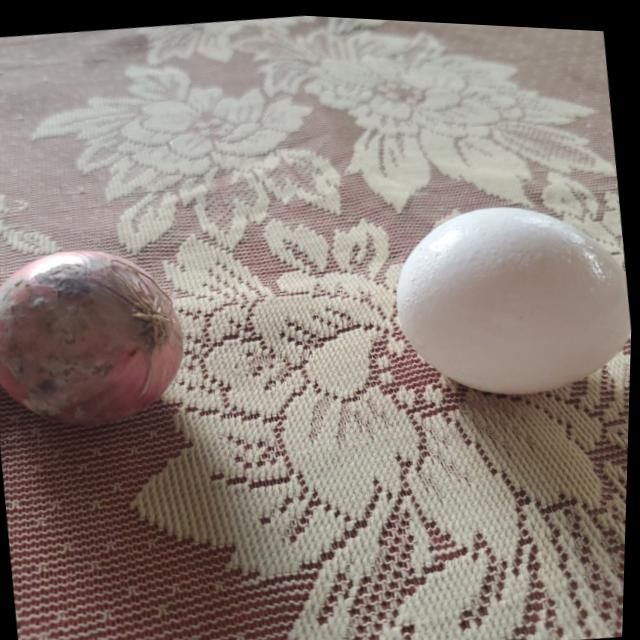egg: (383, 181, 635, 401)
onion: (0, 231, 200, 434)
